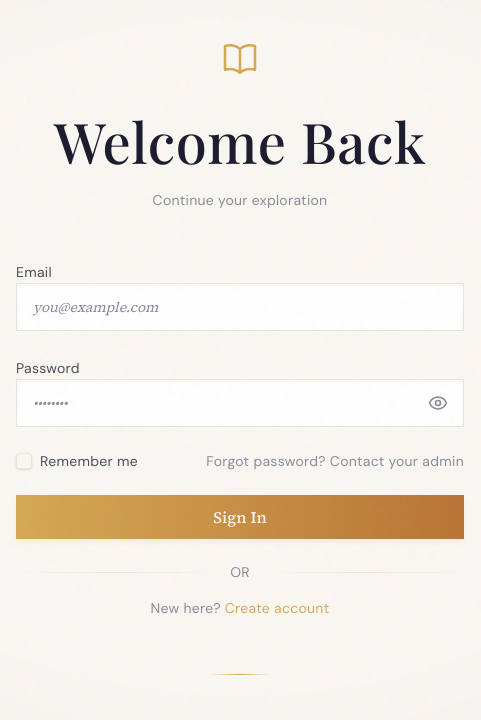
LoginPage › Form Validation › should show validation error for empty email
Click the button "Sign In" at (240, 517), box [16,495,464,539]
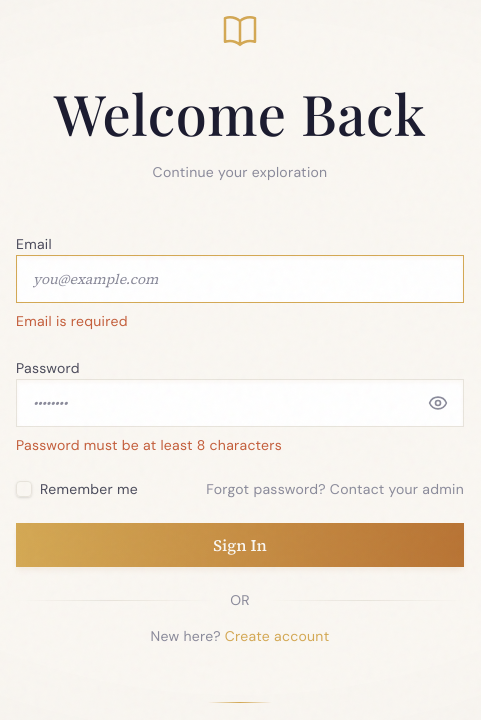
Expected: the text "Email is required" is shown, [16,312,128,330]
